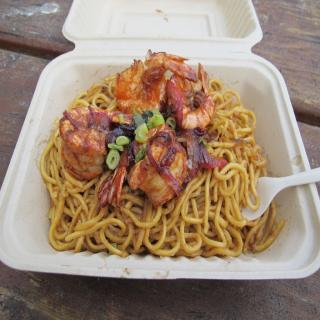Pasta: (42, 60, 276, 262)
